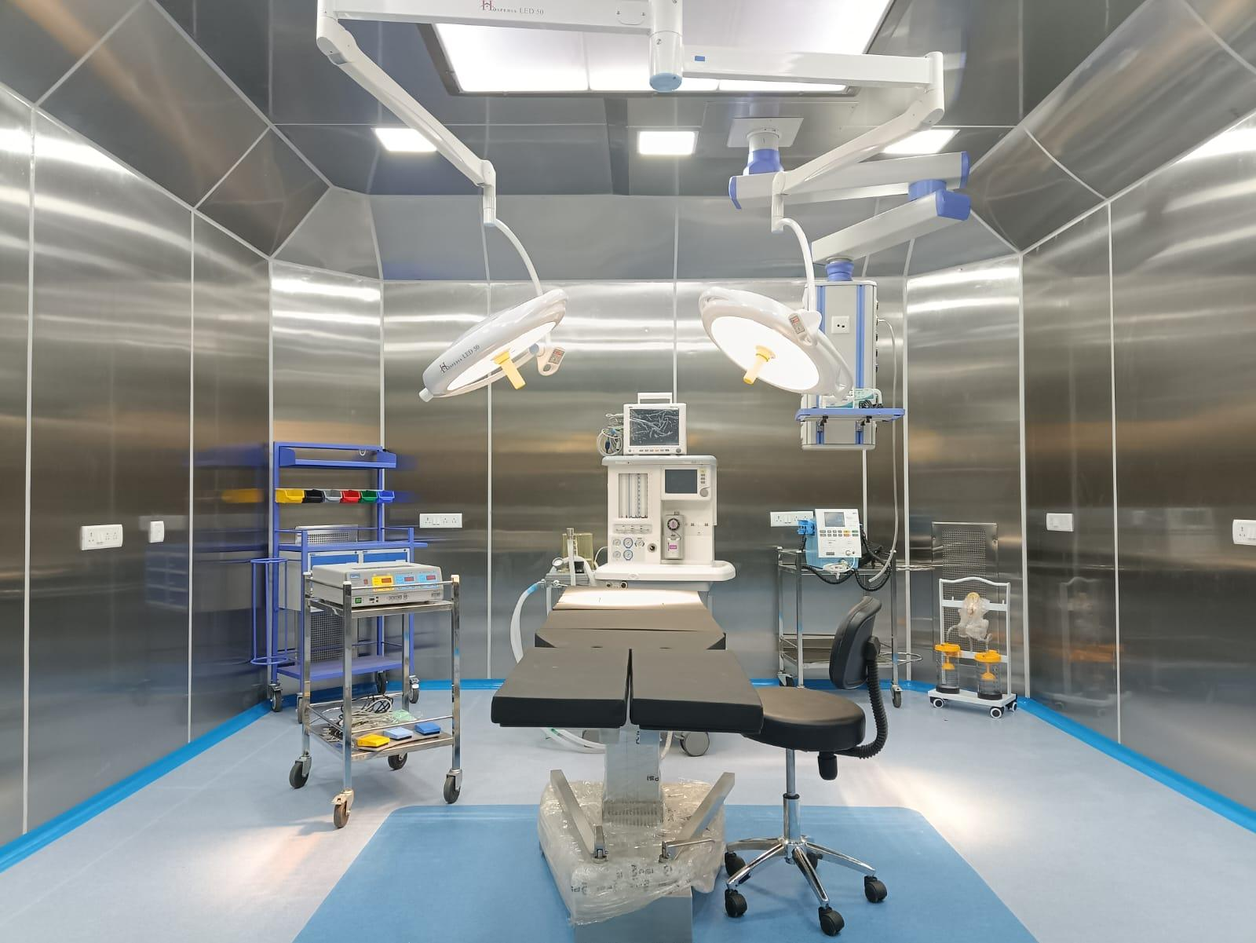bed: (501, 524, 764, 937)
chair: (711, 597, 897, 937)
tools_table: (289, 550, 477, 828)
